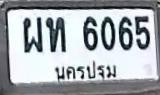0: (100, 16, 115, 50)
5: (134, 16, 150, 50)
6: (82, 16, 97, 50), (118, 16, 132, 50)
A23: (45, 16, 65, 52)
A28: (22, 17, 42, 53)
NPT: (52, 58, 121, 82)
